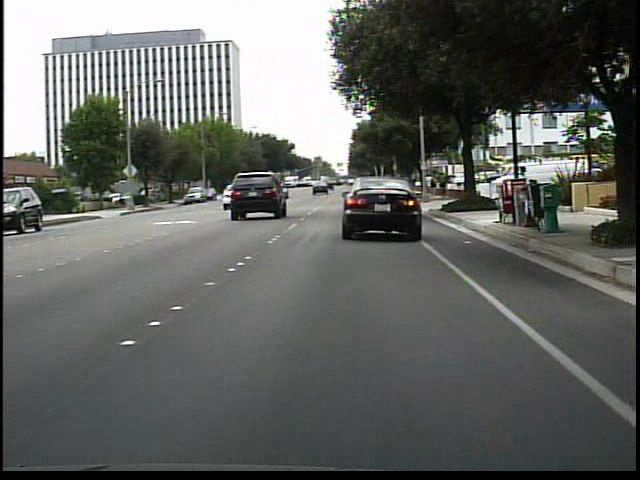person: (428, 176, 439, 200), (438, 175, 448, 198)
